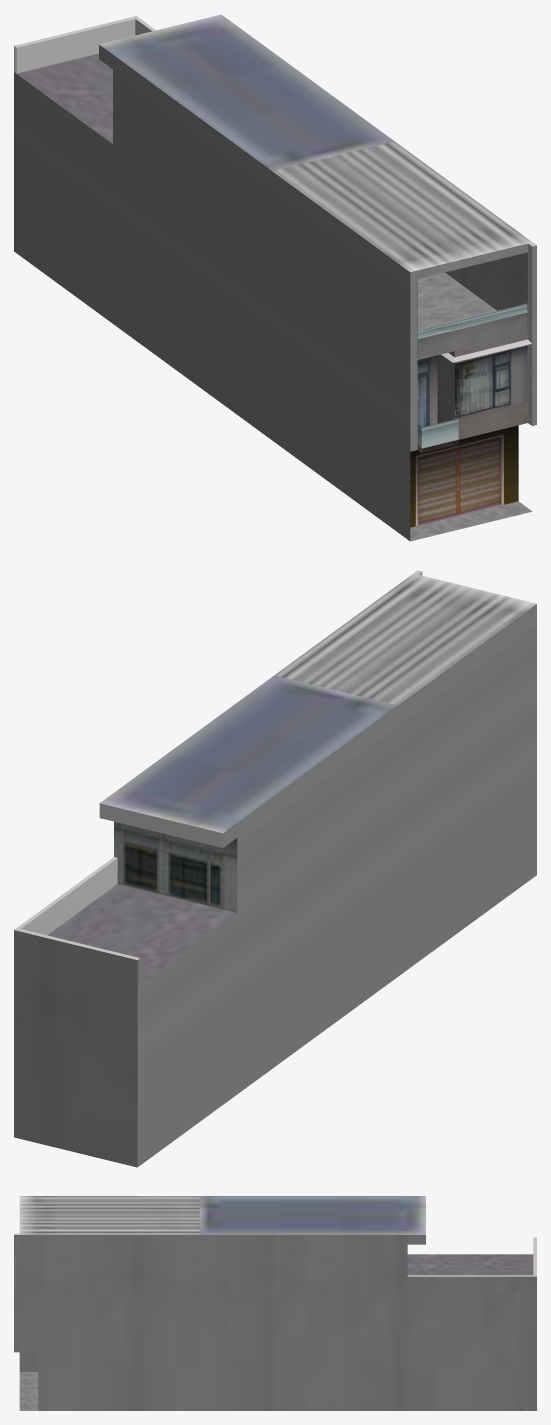
The picture shows the model from 3 angles, top to bottom: view 1: azimuth 30°, elevation 25°; view 2: azimuth 150°, elevation 25°; view 3: azimuth 270°, elevation 25°; orthographic projection. The views are drawn at different scales.
Parts seen in each view (by area): view 1: 5cd4f55fcb50ccdd304abad4.001; view 2: 5cd4f55fcb50ccdd304abad4.001; view 3: 5cd4f55fcb50ccdd304abad4.001.
Part boxes in pixels (bbox=[...]): 5cd4f55fcb50ccdd304abad4.001: bbox=[14, 14, 536, 541]; 5cd4f55fcb50ccdd304abad4.001: bbox=[14, 570, 536, 1167]; 5cd4f55fcb50ccdd304abad4.001: bbox=[14, 1196, 536, 1410].
Bounding box in the file's own units: 5 × 10.5 × 28.3.
1 material, 1 textured.
